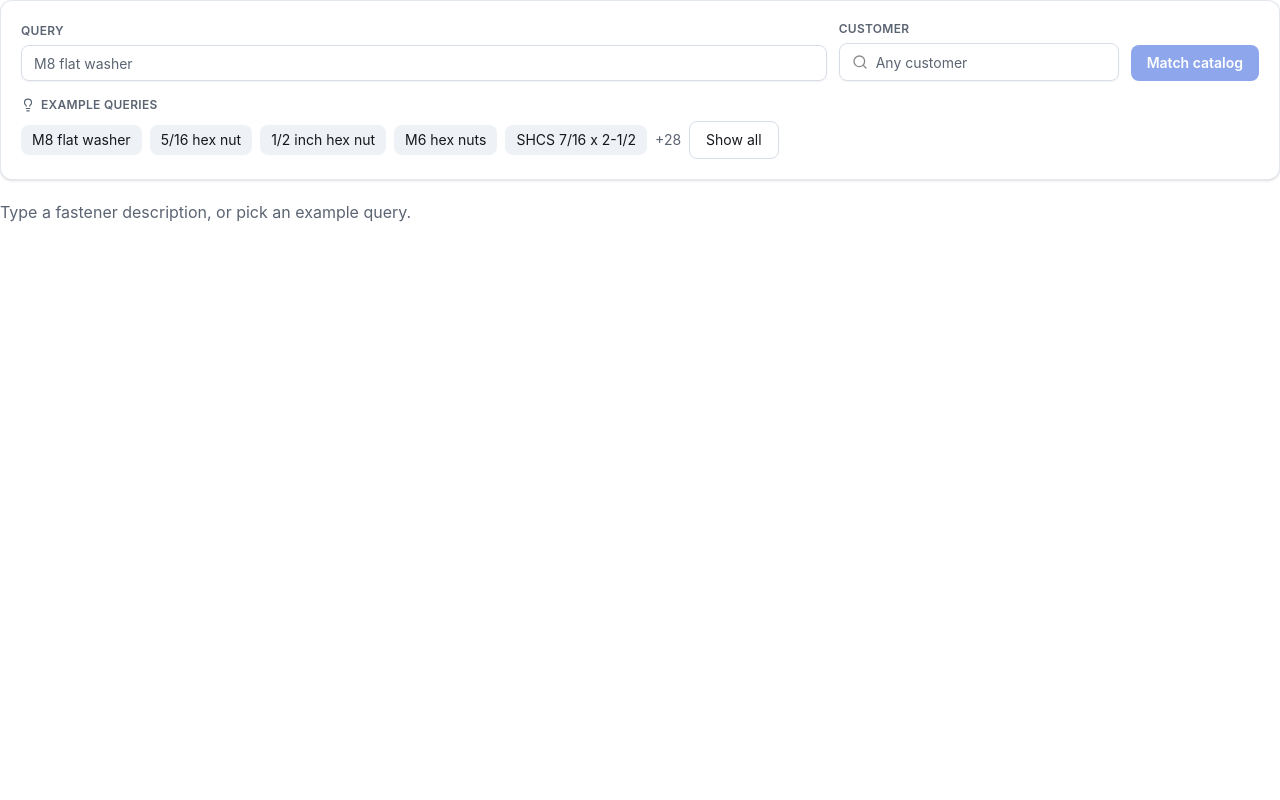
it: ResultsPanel › sends the chosen customer and renders what history contributed
Click the dropdown labelled "Customer".
click(991, 62)  # box [876, 44, 1106, 80]
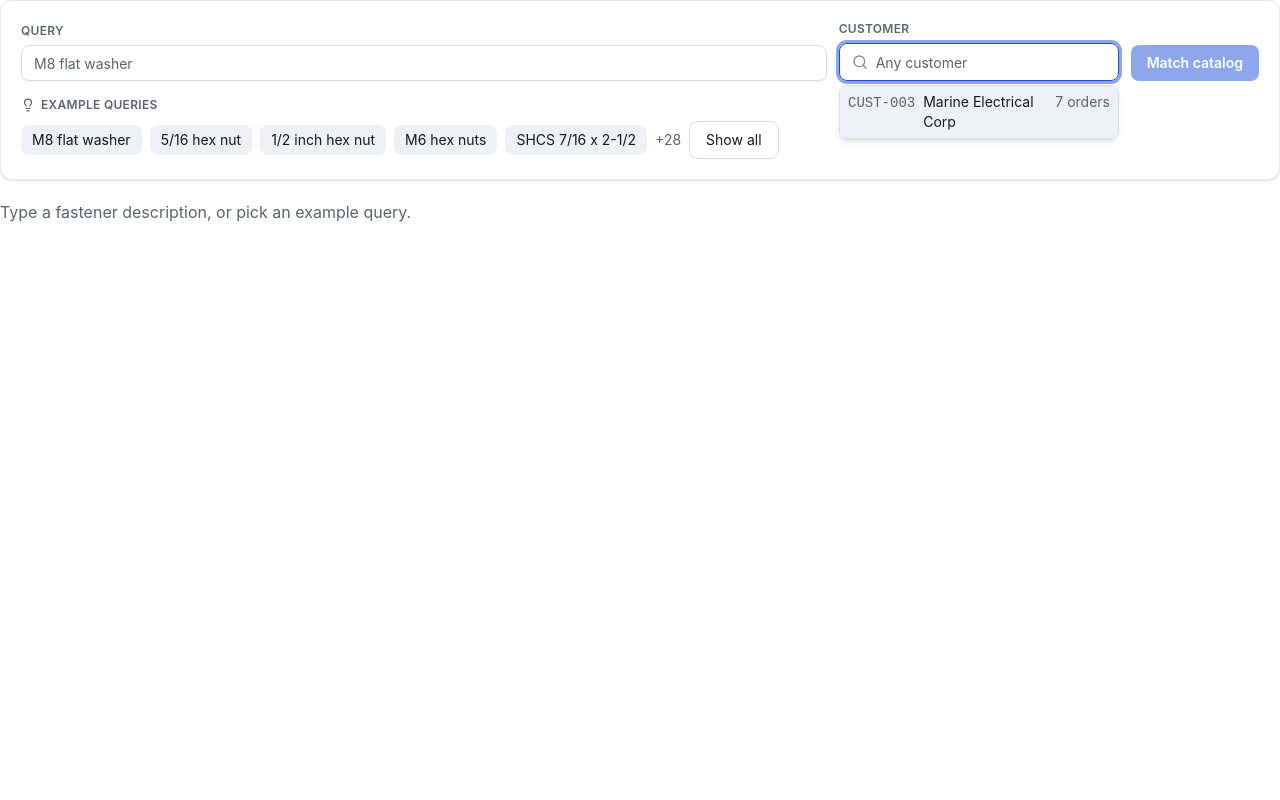
Click the option "CUST-003 Marine Electrical Corp 7 orders".
click(979, 112)  # box [840, 86, 1118, 138]
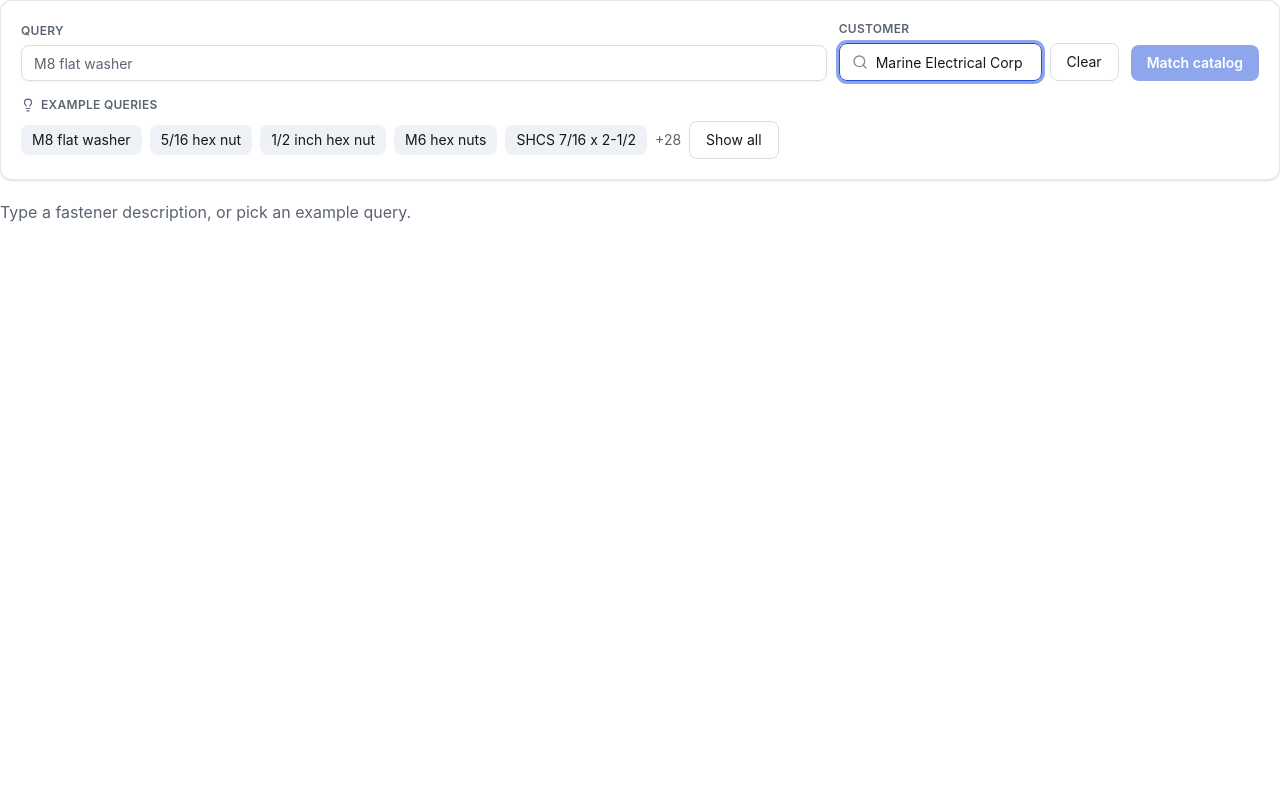
Type "the same washers as last time" into the field labelled "Query".
click(424, 63); type("the same washers as last time")  # box [21, 45, 827, 81]
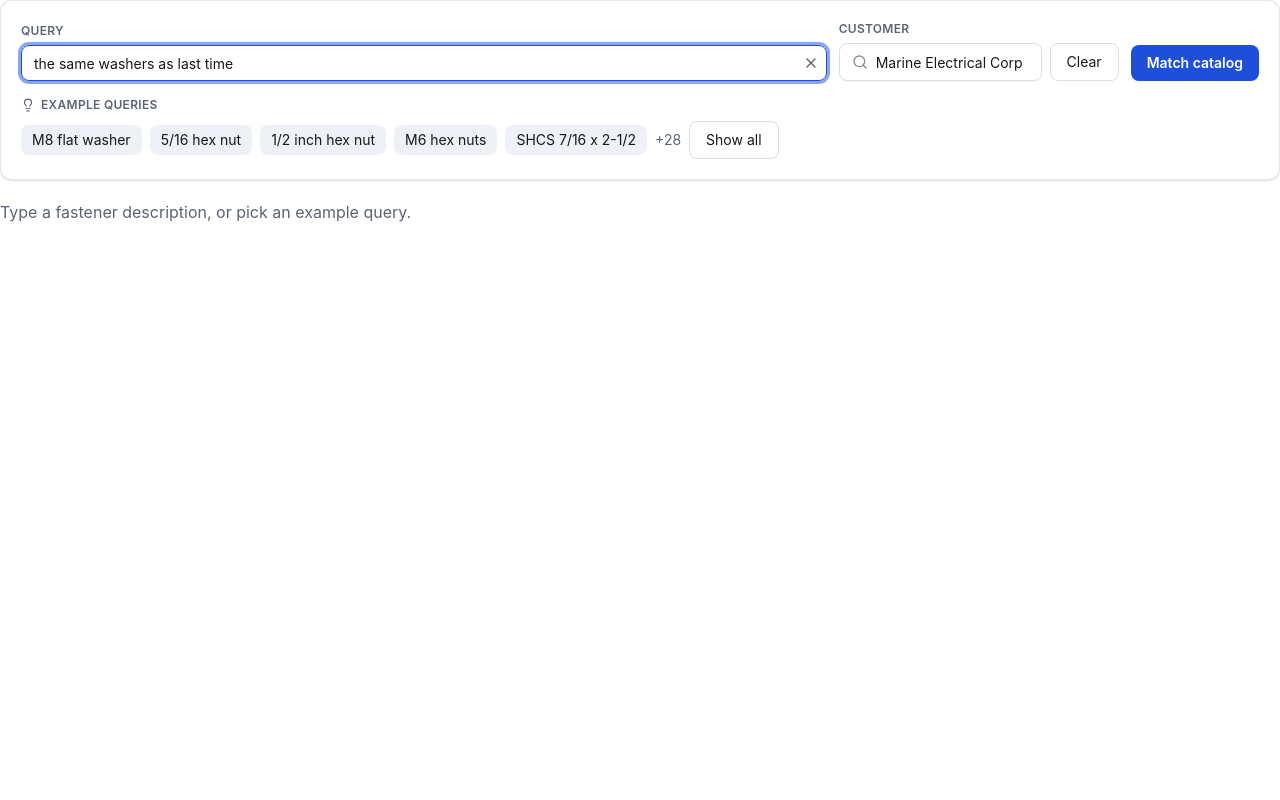
Click the button "Match catalog".
click(1195, 63)  # box [1131, 45, 1259, 81]
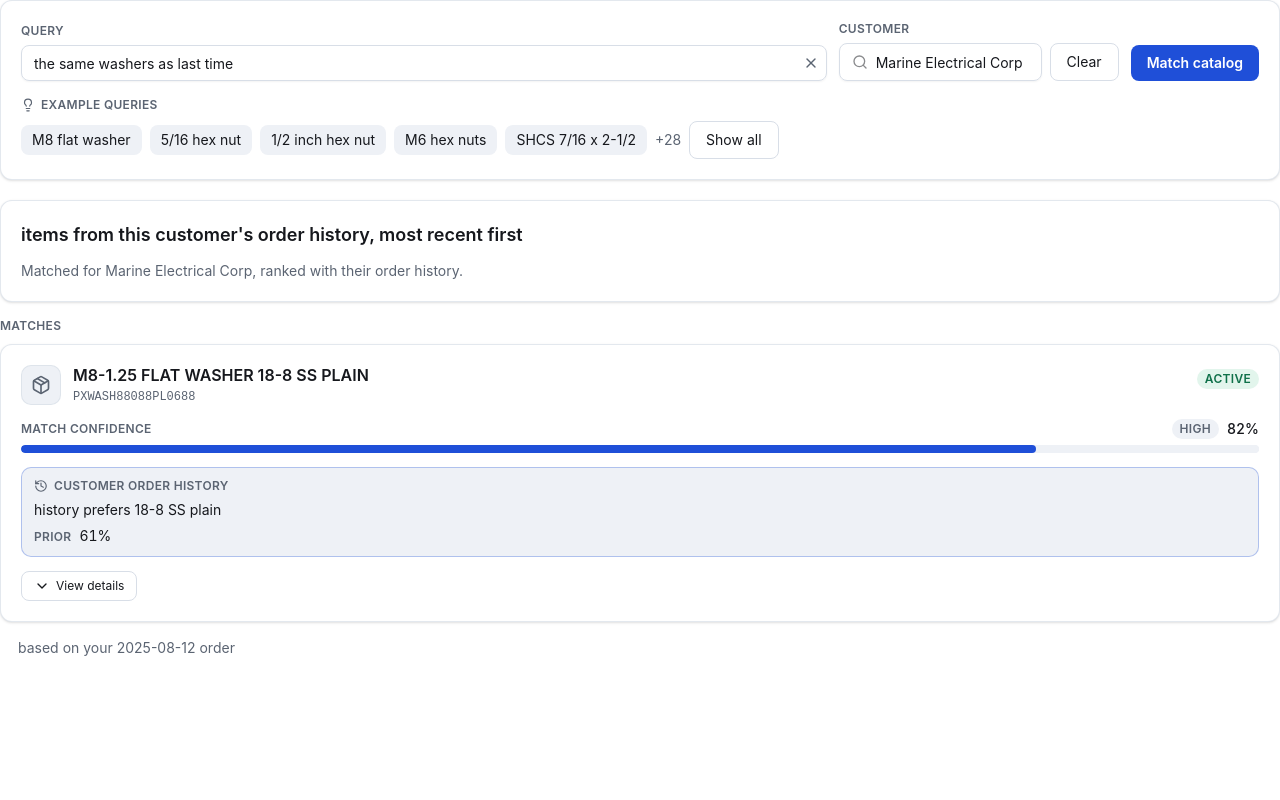
Result: the text "items from this customer's order history, most recent first" is shown at [21, 224, 523, 245]
Result: the text "history prefers 18-8 SS plain" is shown at [34, 501, 221, 518]
Result: the list item "based on your 2025-08-12 order" is shown at [18, 639, 235, 656]
